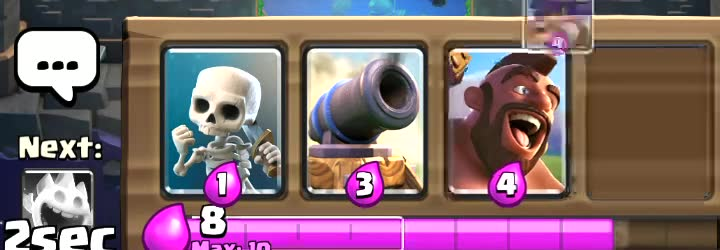cannon: (316, 51, 428, 196)
hog-rider: (444, 54, 555, 198)
